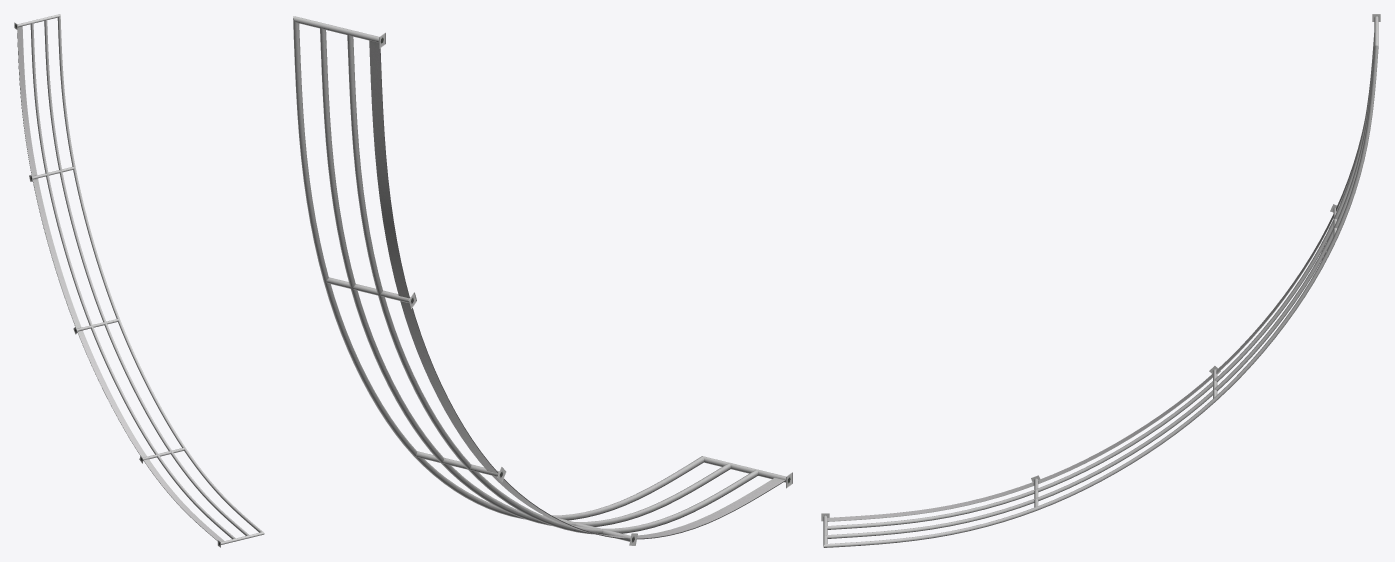
The model's file is props_trainyard_handrail_corner02.glb.
3 views of the same model, side by side, from view 1: azimuth 30°, elevation 25°; view 2: azimuth 150°, elevation 25°; view 3: azimuth 270°, elevation 25° (orthographic). The views are drawn at different scales.
Visible parts, largest first — view 1: models/props_trainyard/handrail_corner02; view 2: models/props_trainyard/handrail_corner02; view 3: models/props_trainyard/handrail_corner02.
Boxes of the visible parts, <box> form: models/props_trainyard/handrail_corner02: <box>14,14,264,547</box>; models/props_trainyard/handrail_corner02: <box>293,16,792,545</box>; models/props_trainyard/handrail_corner02: <box>821,14,1380,547</box>.
Bounding box in the file's own units: 33 × 264 × 264.
Materials: 1 (1 with a texture image).
